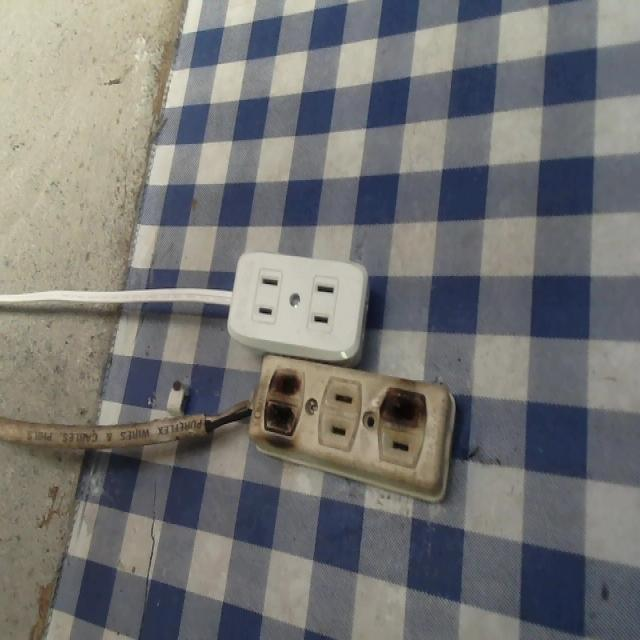-: (258, 362, 309, 442), (378, 380, 428, 435)
